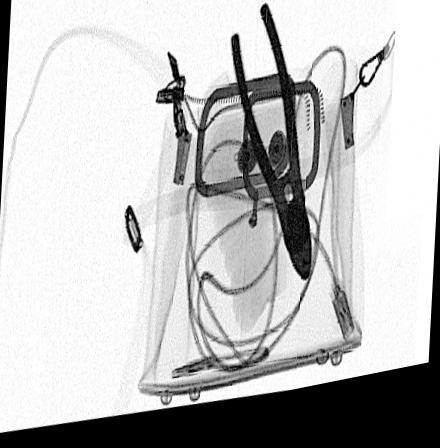Pliers: (229, 8, 314, 297)
